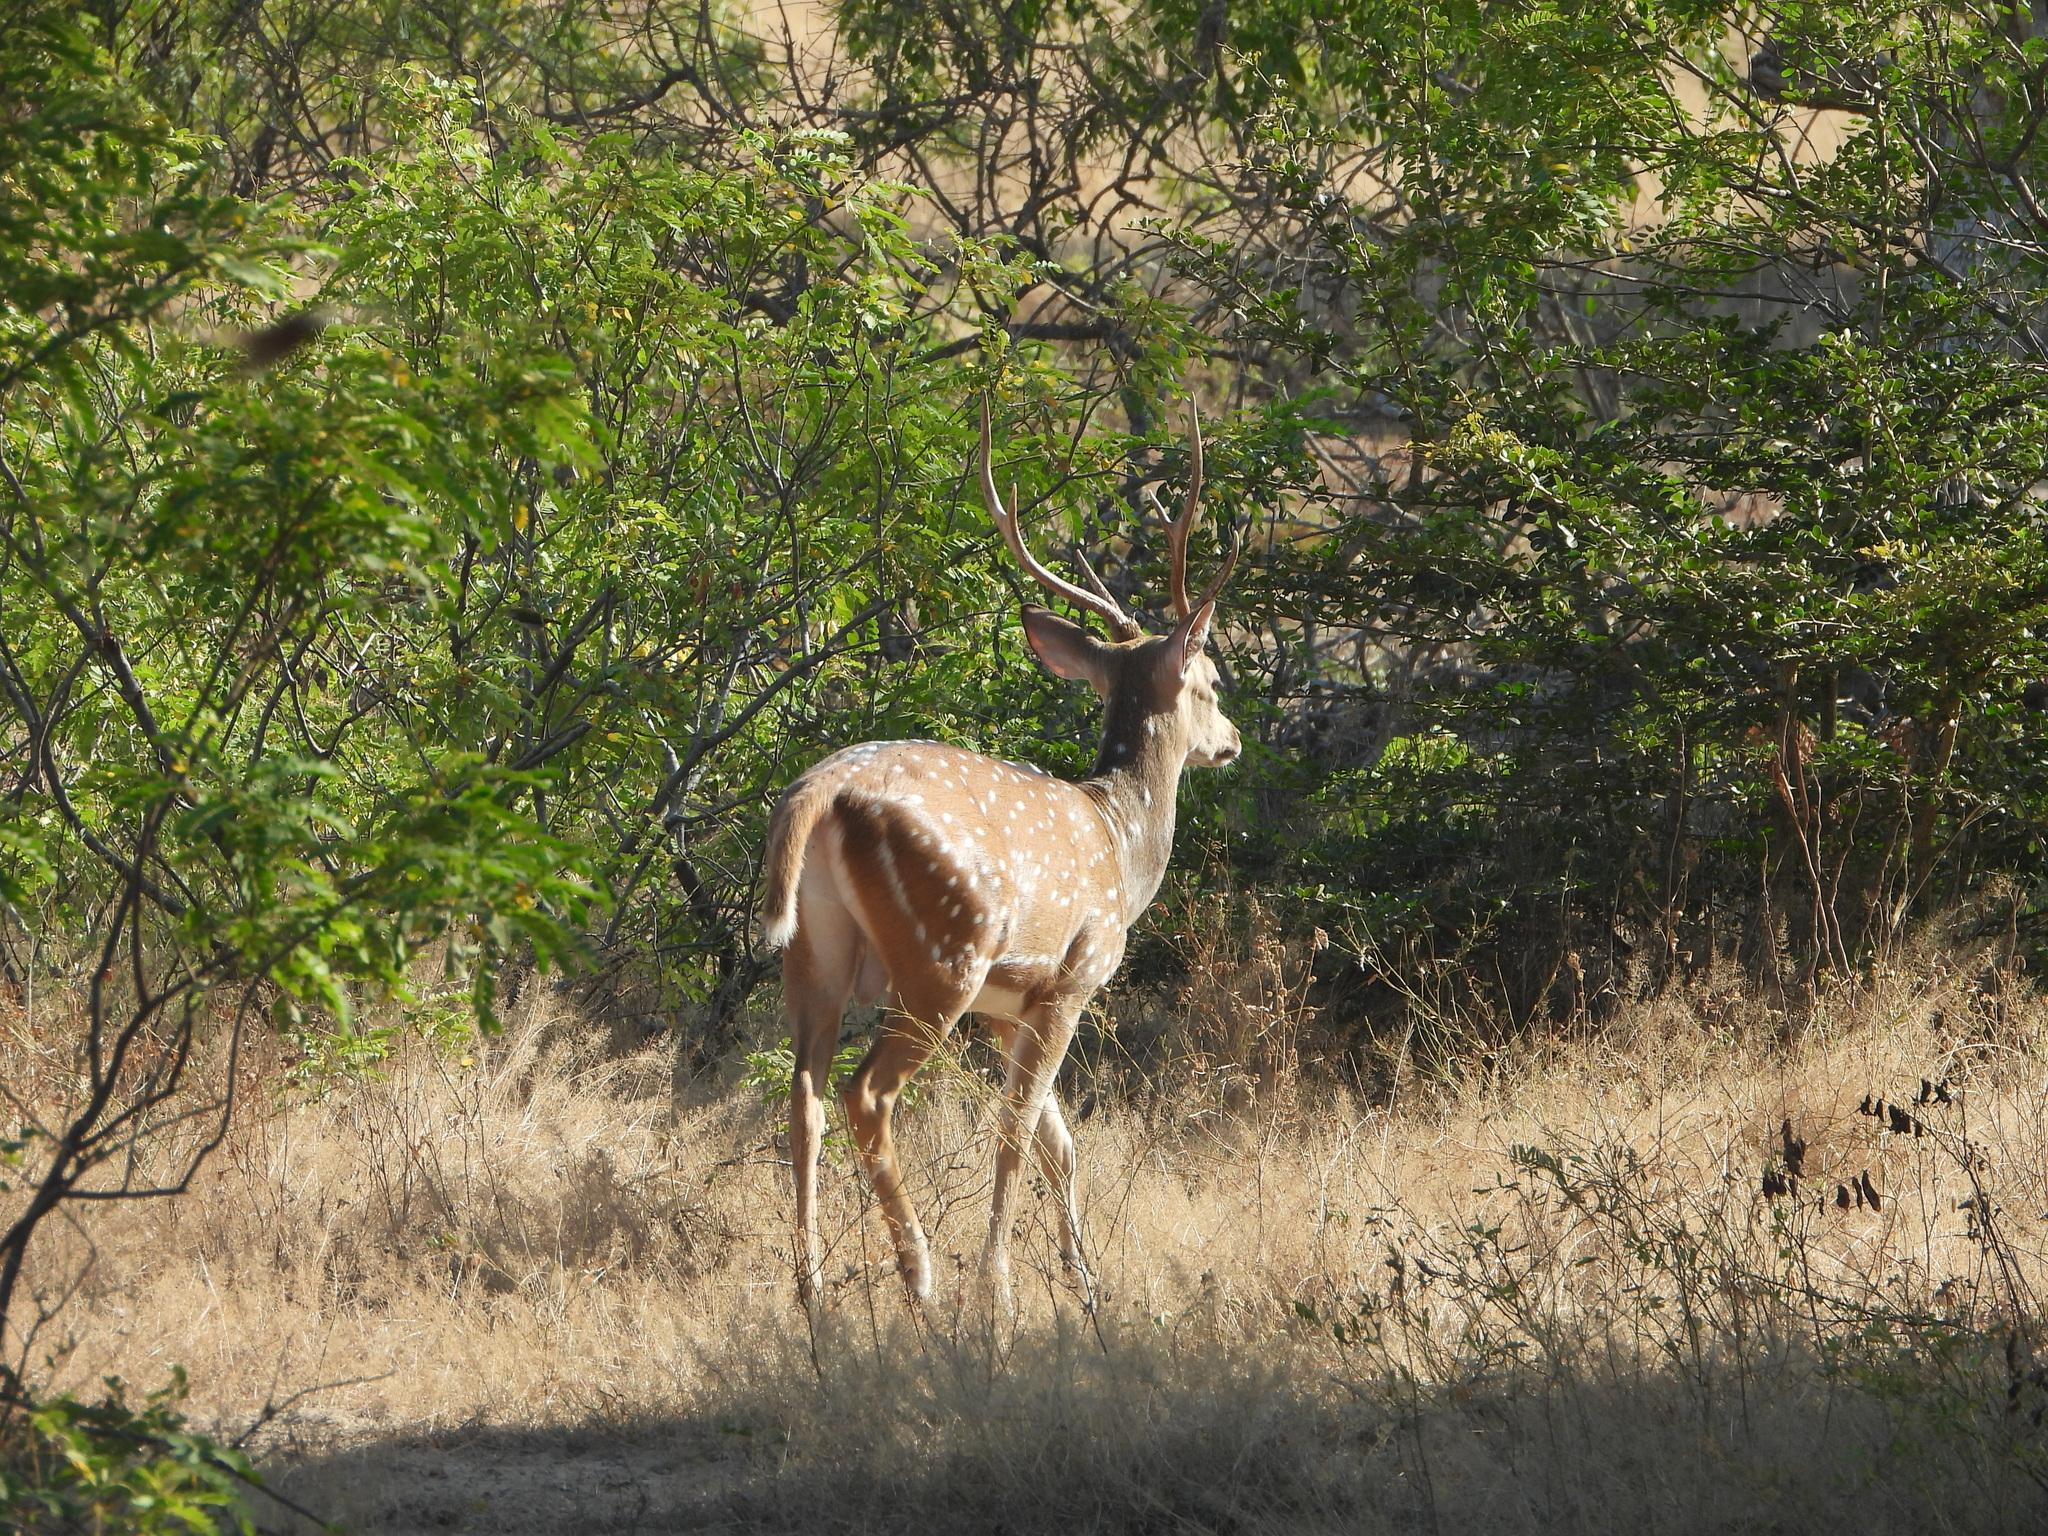Deer: (761, 390, 1240, 1299)
